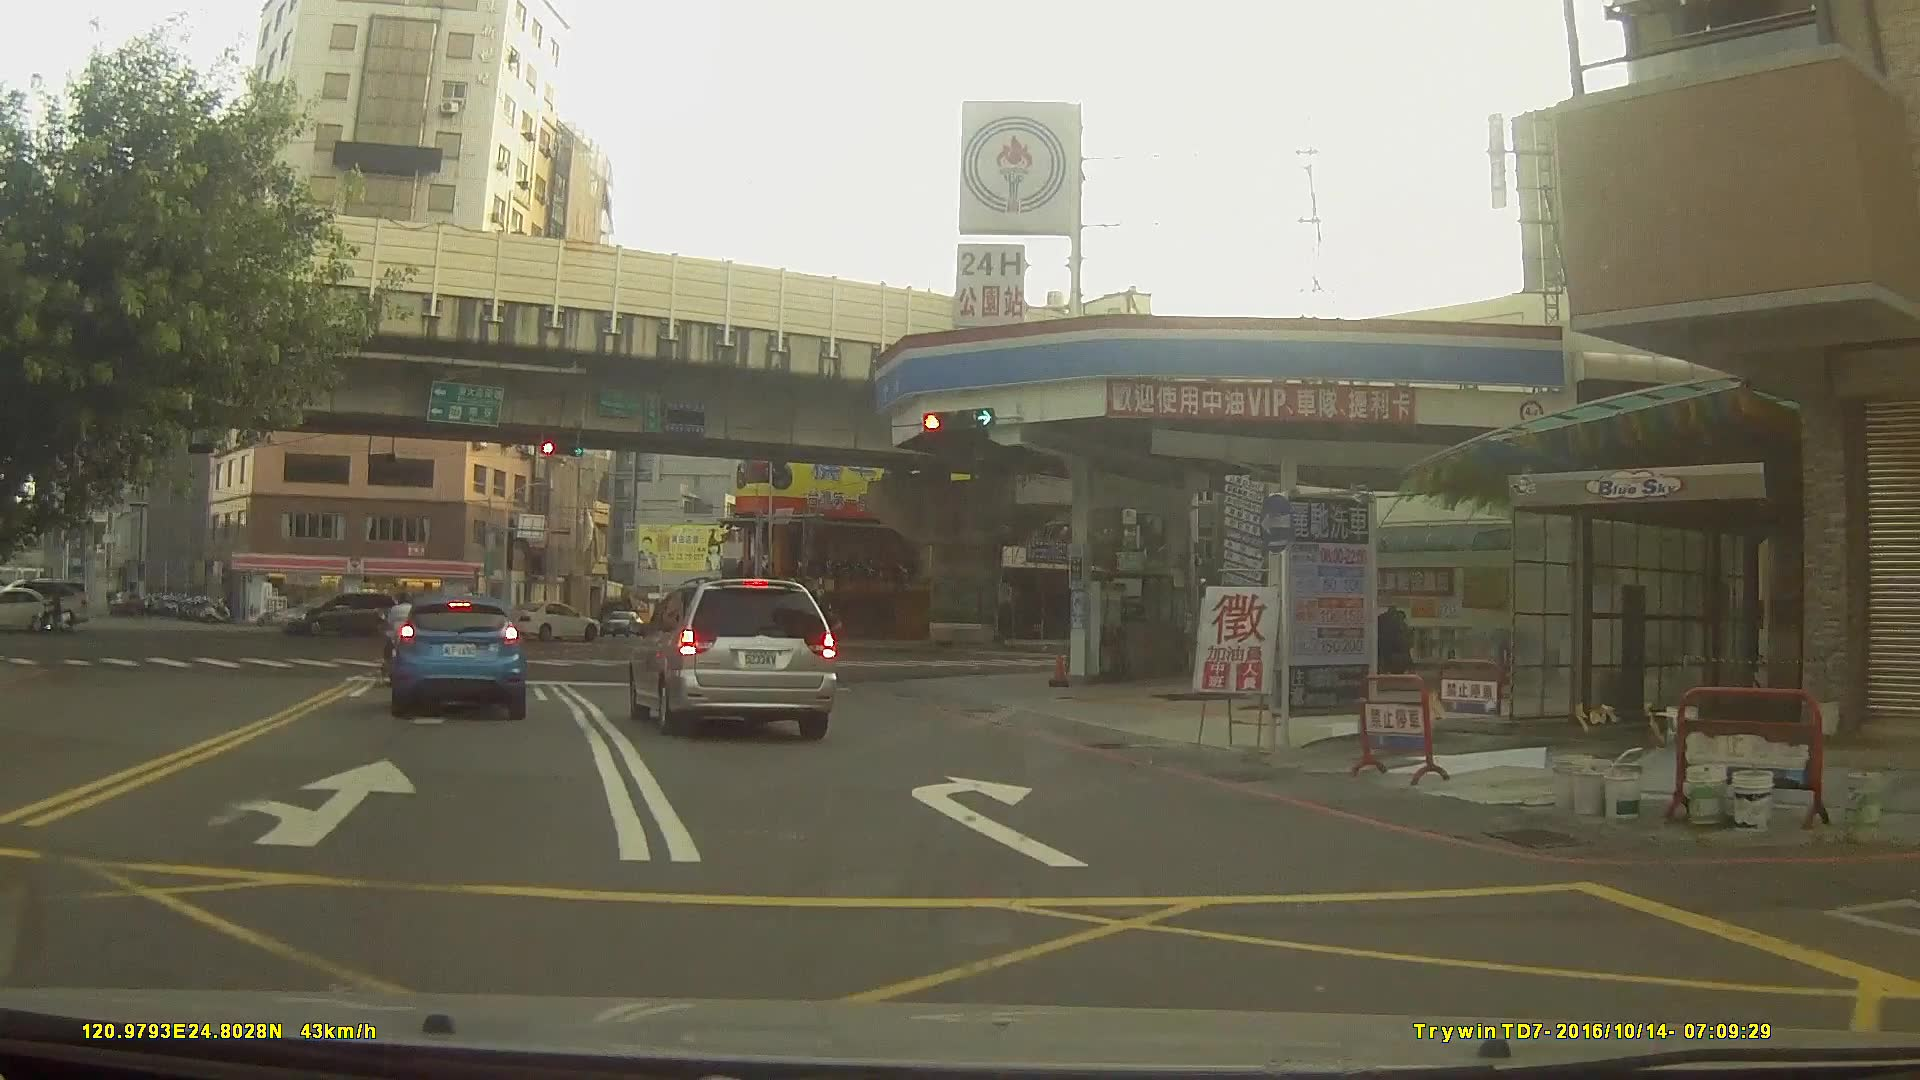rider: (381, 595, 421, 678), (30, 594, 71, 636)
vehicle: (630, 576, 838, 740), (388, 593, 526, 723), (278, 591, 400, 638), (502, 601, 601, 642), (0, 586, 63, 634)
